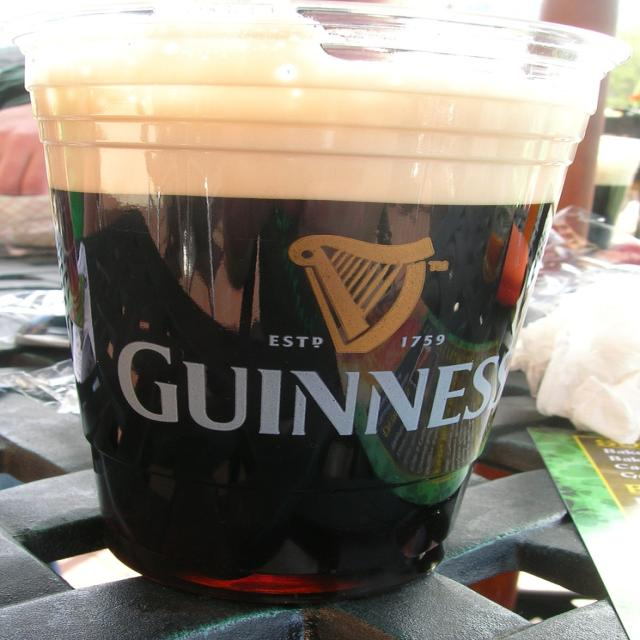guiness: (111, 234, 520, 442)
